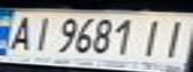1: (112, 16, 139, 56)
6: (72, 15, 96, 55)
8: (90, 16, 118, 56)
9: (51, 15, 78, 54)
A: (3, 14, 39, 52)
I: (154, 16, 193, 58), (136, 16, 172, 57), (27, 14, 57, 53)
